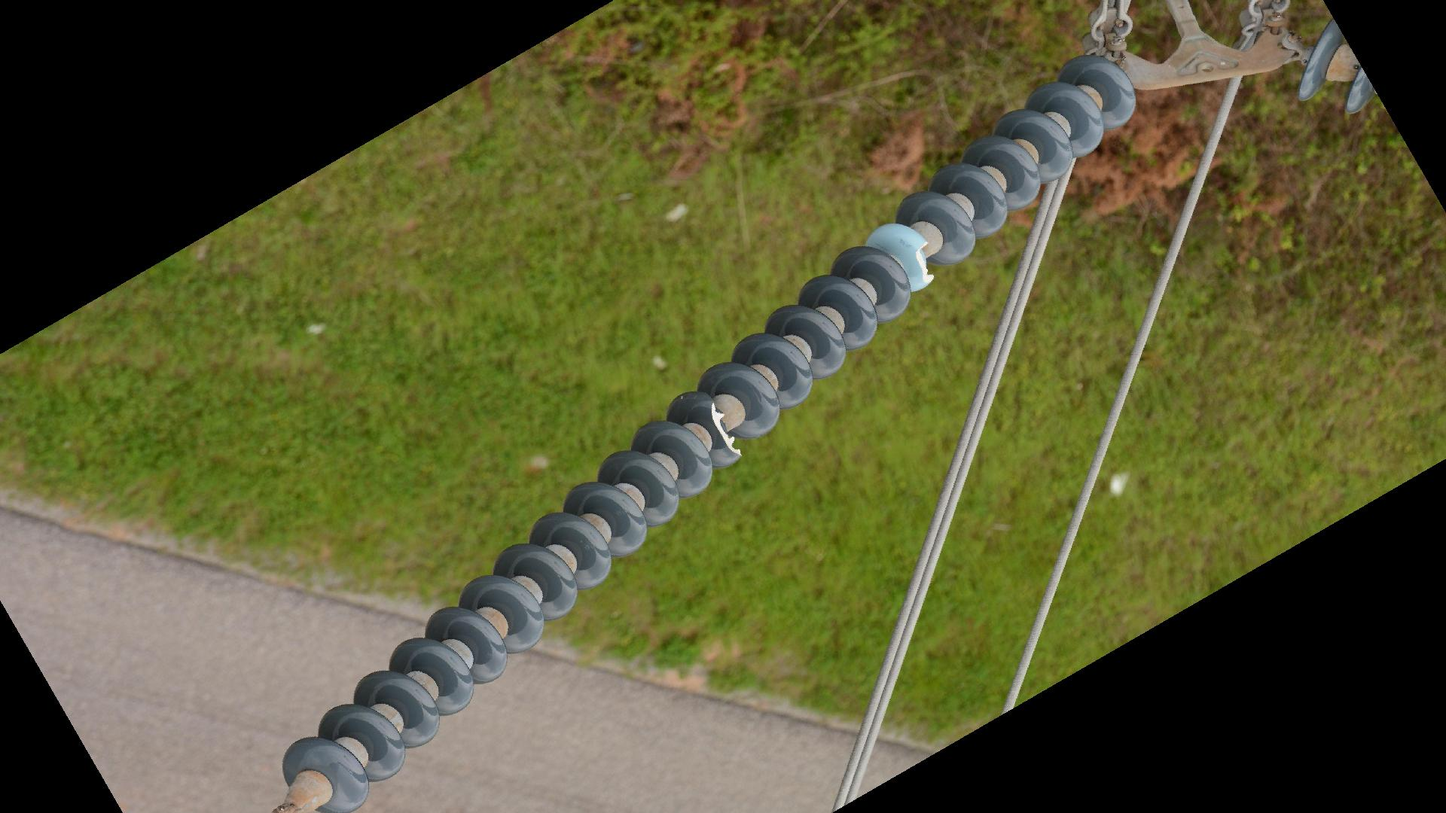insulator: (275, 50, 1142, 813), (1289, 15, 1382, 118)
insulator_breakage: (704, 398, 746, 461), (911, 237, 939, 288)
